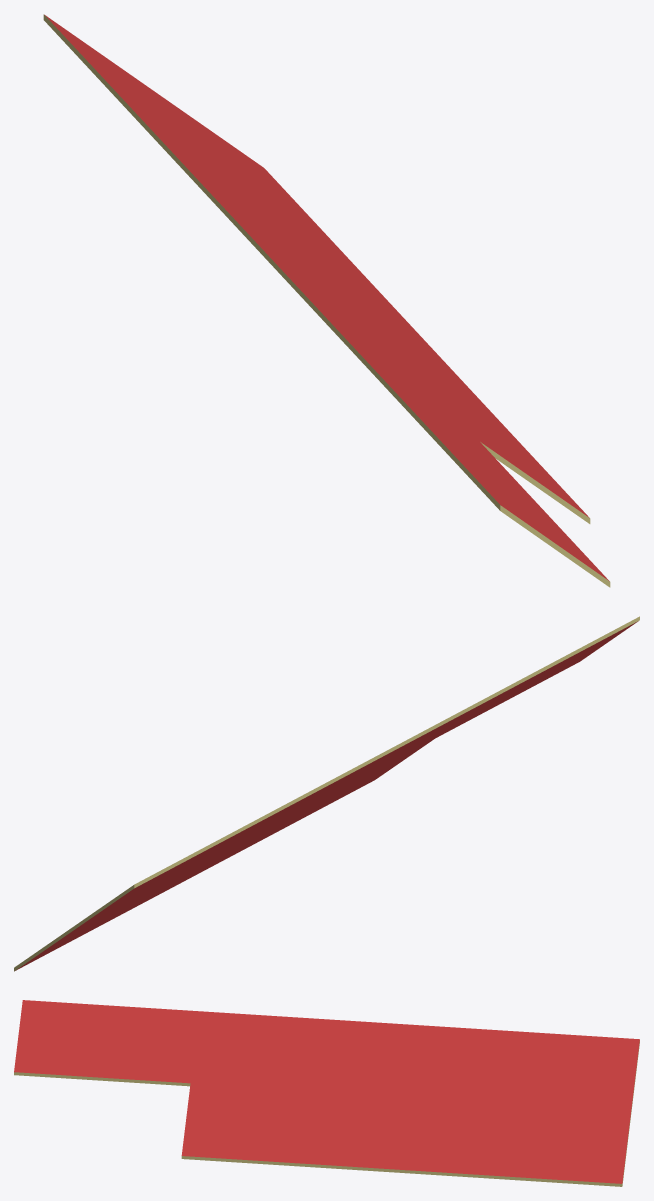
3 renders of one model, top to bottom at view 1: azimuth 30°, elevation 25°; view 2: azimuth 150°, elevation 25°; view 3: azimuth 270°, elevation 25°, orthographic. The views are drawn at different scales.
Bounding box in the file's own units: 6.3 × 18.78 × 3.25.
